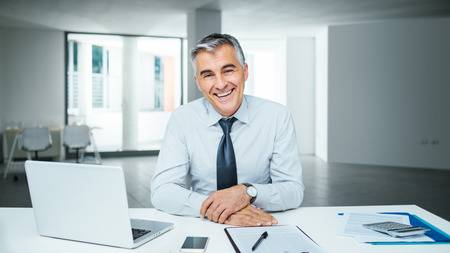F_shirt: (152, 93, 304, 221)
F_tie: (208, 122, 241, 186)
